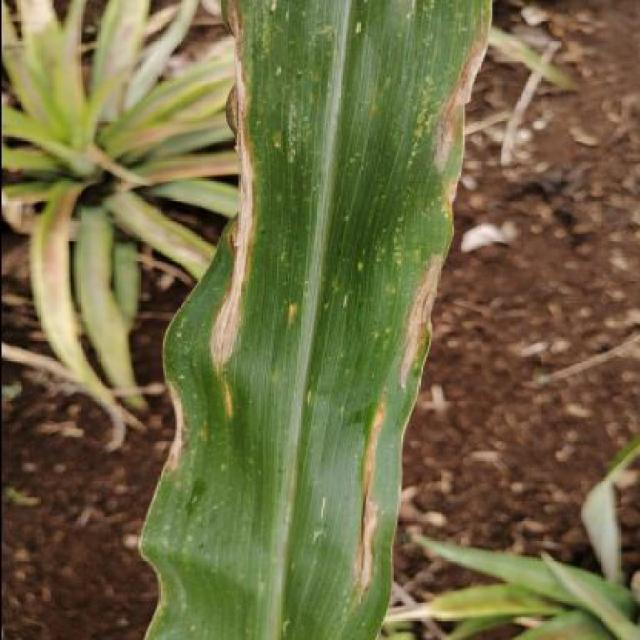Corn_Leaf_Blight: (138, 7, 492, 640)
